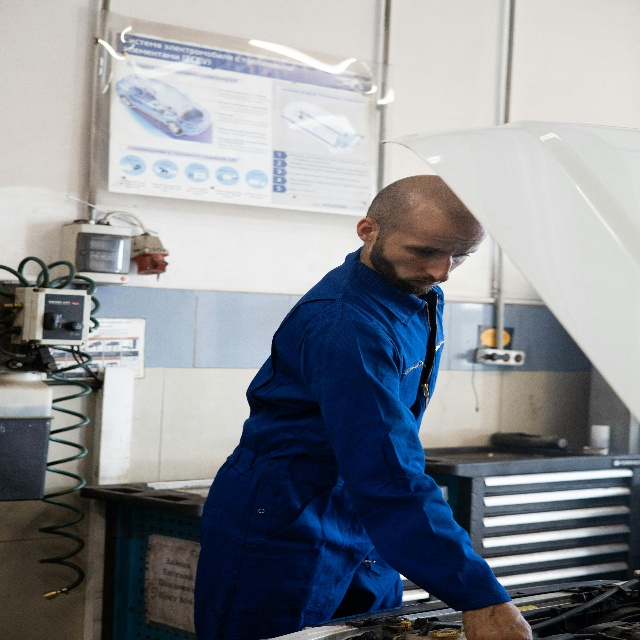Sin_guantes: (462, 603, 533, 640)
